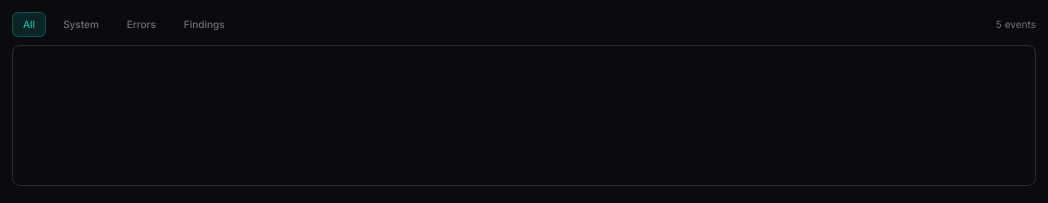
LiveLog › filters to show only findings when Findings filter clicked
Click the button "Findings" at [204, 24], box [173, 12, 236, 37]
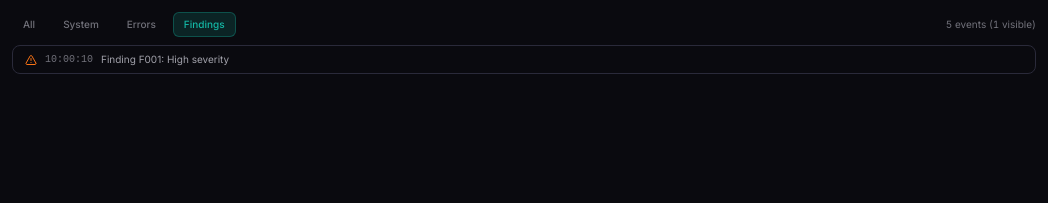
Check: the text "5 events (1 visible)" is shown, box [946, 17, 1036, 32]
